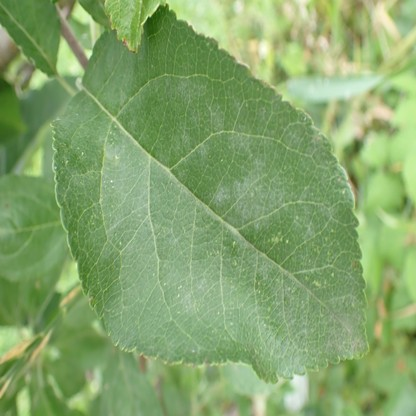powder: (58, 75, 366, 379)
